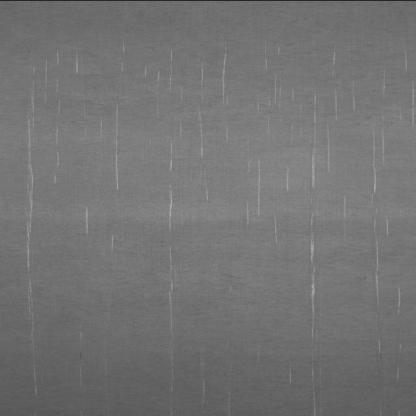waist_folding: (32, 38, 398, 416)
